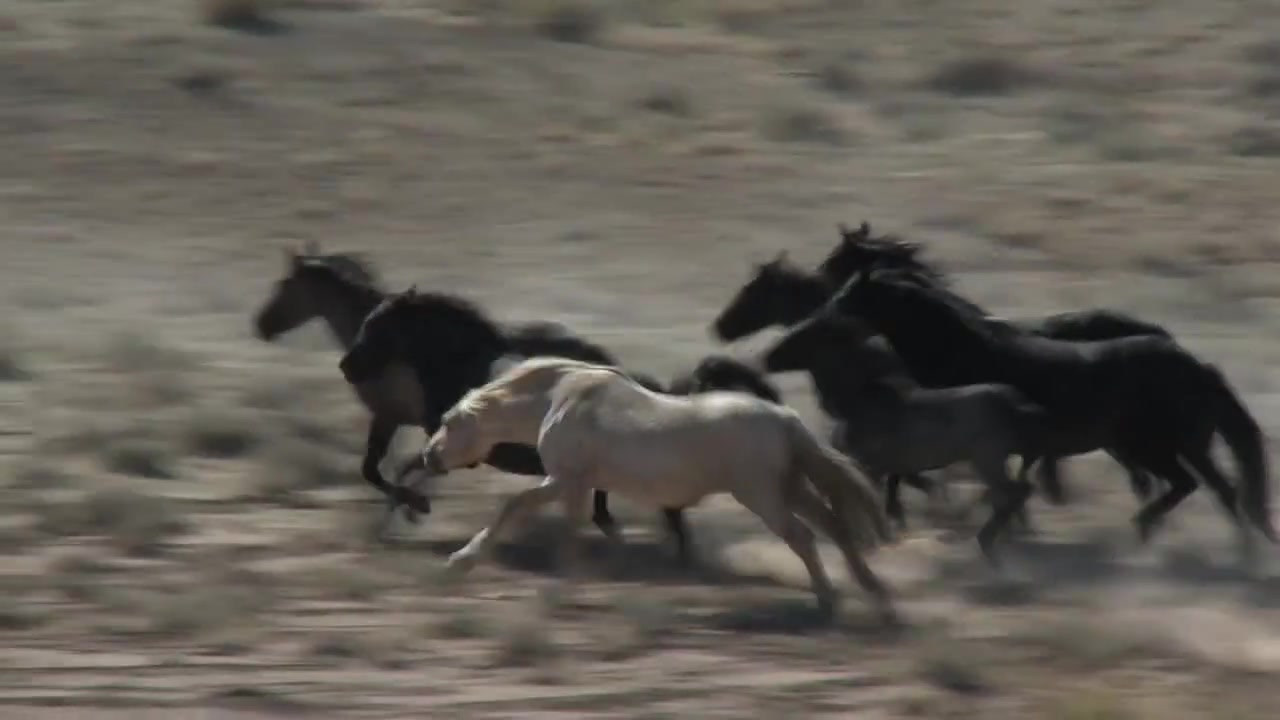horse: (803, 265, 1280, 566), (707, 257, 1181, 536), (423, 360, 904, 627), (334, 283, 694, 559), (760, 310, 1042, 554), (251, 238, 454, 510), (805, 222, 938, 293)
